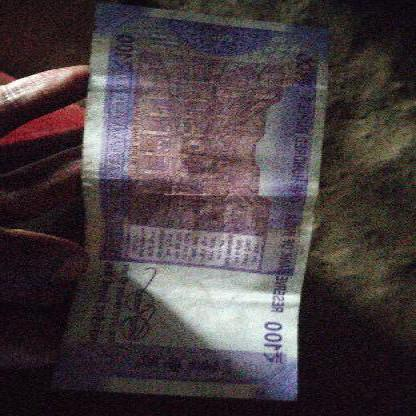New100Back: (64, 23, 324, 390)
